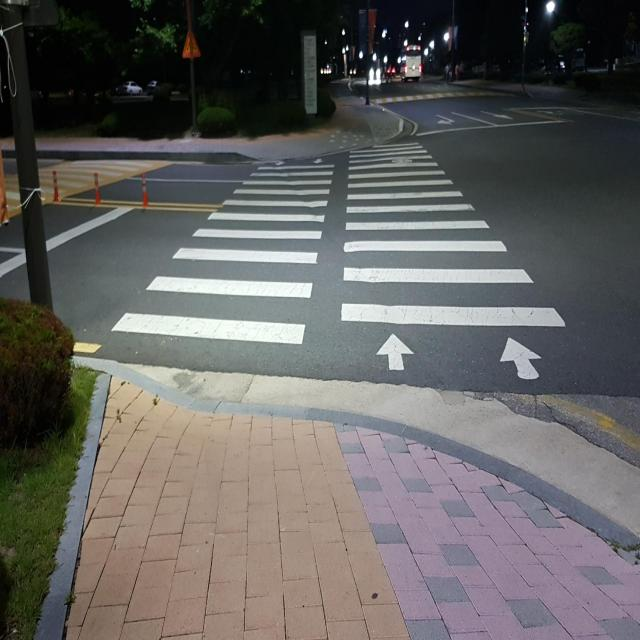횡단보도: (110, 140, 566, 382)
